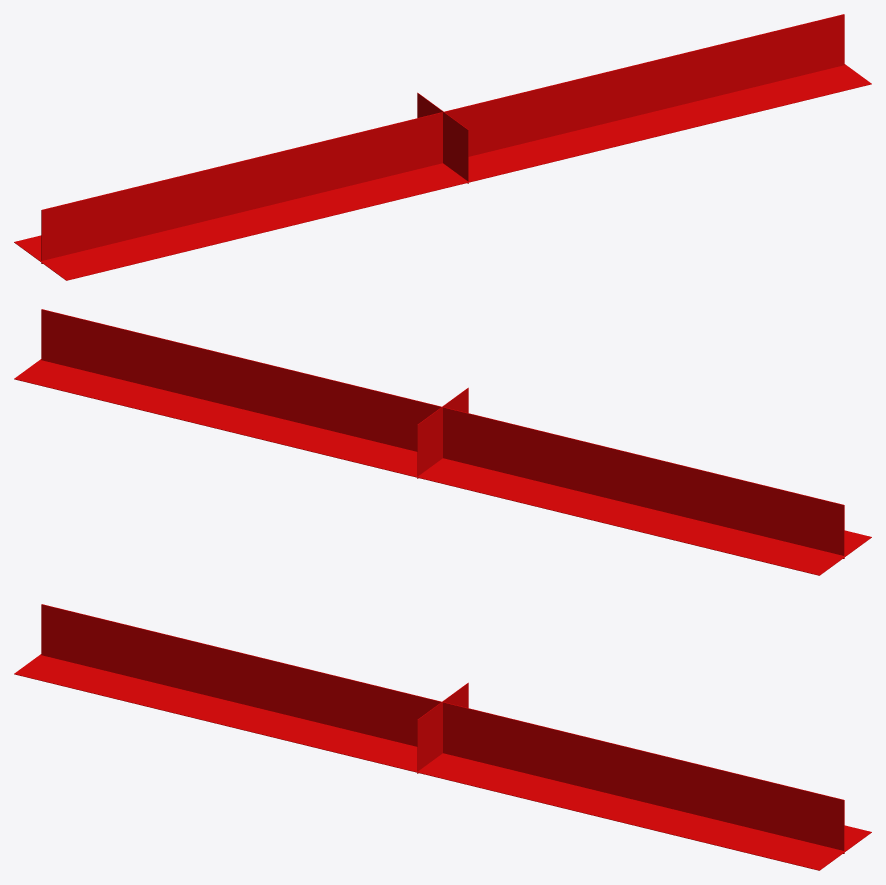
File: monitor reference box.glb
3 views of the same model, one above another, from view 1: azimuth 30°, elevation 25°; view 2: azimuth 150°, elevation 25°; view 3: azimuth 330°, elevation 25° (orthographic).
Parts seen in each view (by area): view 1: Cube.002; view 2: Cube.002; view 3: Cube.002.
Boxes of the visible parts, x1,y1,x2,y2 form: Cube.002: [14, 14, 871, 280]; Cube.002: [14, 309, 871, 575]; Cube.002: [14, 604, 871, 870].
Bounding box in the file's own units: 31.3 × 2.03 × 3.53.
